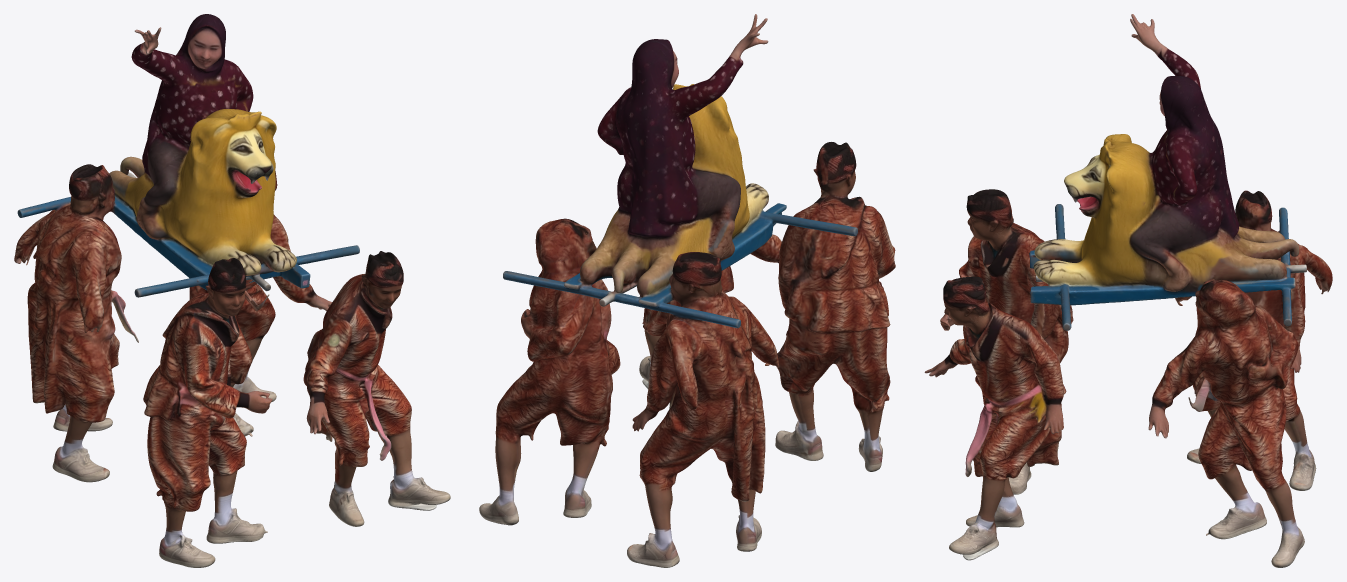
File: mincid tandu.glb
3 views of the same model, side by side, from view 1: azimuth 30°, elevation 25°; view 2: azimuth 150°, elevation 25°; view 3: azimuth 270°, elevation 25° (orthographic). The views are drawn at different scales.
Parts seen in each view (by area): view 1: mesh_node; view 2: mesh_node; view 3: mesh_node.
Part boxes in pixels (box(x1,y1,x2,y2)): mesh_node: box(14, 14, 450, 567); mesh_node: box(479, 14, 895, 567); mesh_node: box(924, 14, 1332, 567).
Size of the model in its own units: 1.13 by 1.9 by 1.52.
Materials: 1 (1 with a texture image).
